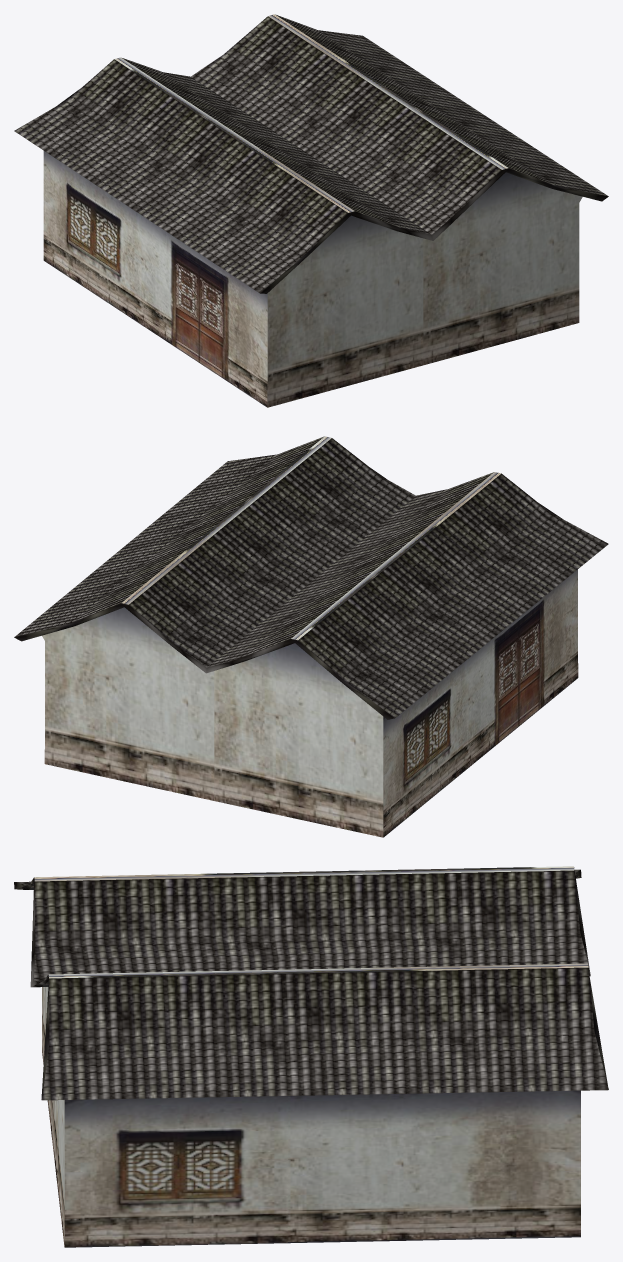
The model's file is ian1590.obj.
The picture shows the model from 3 angles, top to bottom: view 1: azimuth 30°, elevation 25°; view 2: azimuth 150°, elevation 25°; view 3: azimuth 270°, elevation 25°; orthographic projection. The views are drawn at different scales.
Visible parts, largest first — view 1: ian1590; view 2: ian1590; view 3: ian1590.
Part boxes in pixels (bbox=[...]): ian1590: bbox=[14, 14, 608, 407]; ian1590: bbox=[14, 436, 608, 837]; ian1590: bbox=[14, 866, 608, 1247].
Bounding box in the file's own units: 221 × 99.21 × 240.
